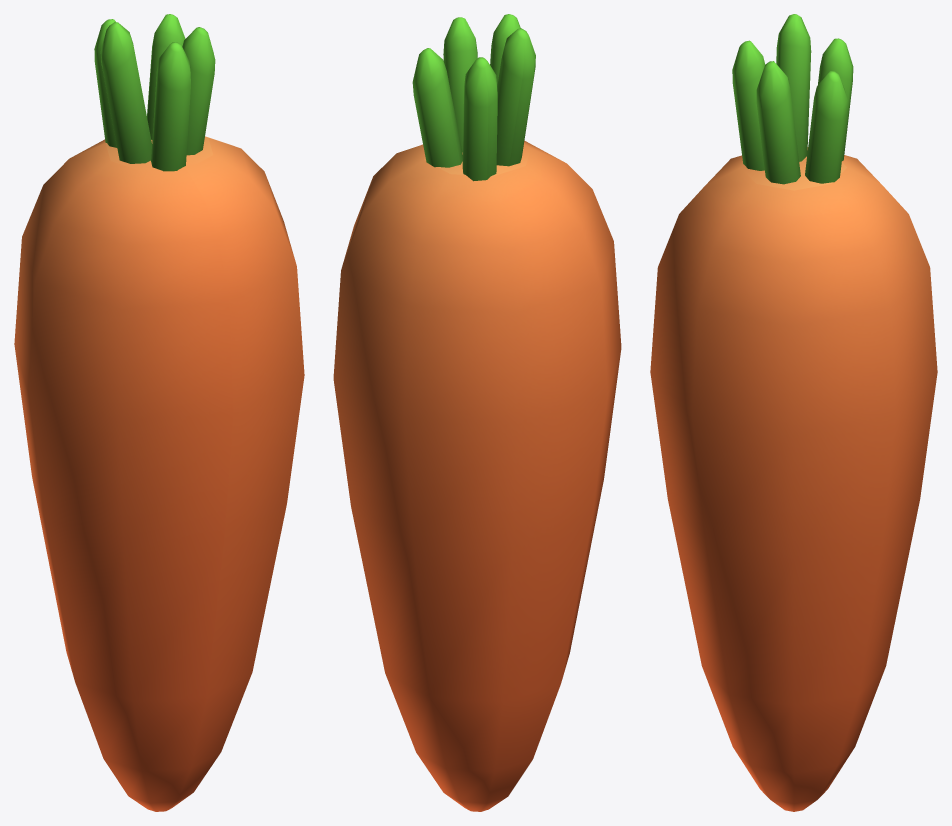
The model's file is ENV1810007.fbx.
3 renders of one model, left to right at view 1: azimuth 30°, elevation 25°; view 2: azimuth 150°, elevation 25°; view 3: azimuth 270°, elevation 25°, orthographic. The views are drawn at different scales.
Visible parts, largest first — view 1: smENV1810007; view 2: smENV1810007; view 3: smENV1810007.
Boxes of the visible parts, bbox=[...] form: smENV1810007: bbox=[14, 14, 304, 811]; smENV1810007: bbox=[333, 14, 621, 811]; smENV1810007: bbox=[650, 14, 937, 811].
Size of the model in its own units: 7.33 by 21.19 by 7.15.
Materials: 1 (1 with a texture image).
